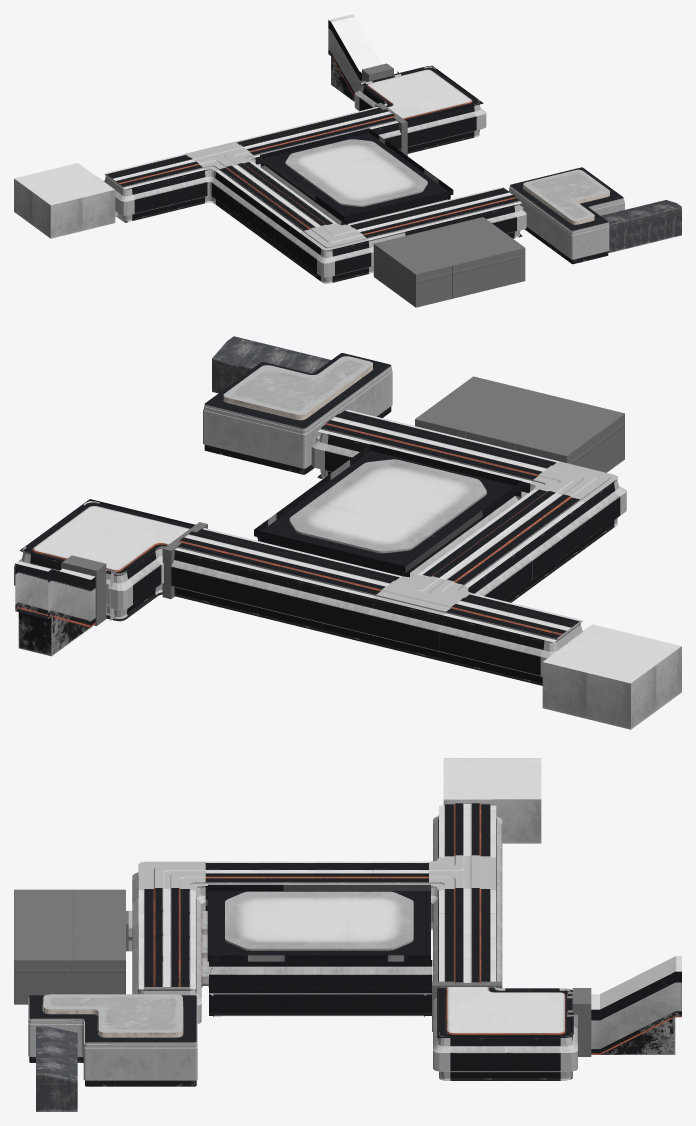
The model's file is TutoriRoom_FFF.fbx.
3 renders of one model, top to bottom at view 1: azimuth 30°, elevation 25°; view 2: azimuth 150°, elevation 25°; view 3: azimuth 270°, elevation 25°, orthographic. The views are drawn at different scales.
Visible parts, largest first — view 1: Tutori_HallWay_v1_Ceiling, Tutori_MeetingRoom_Ceiling, Tutori_HallWay_v1, Tutori_laboratory, Tutori_laboratory_Ceiling, Tutori_Father's Office_Ceiling, Tutori_Robby_Ceiling, Tutori_armory, Tutori_Father's Office, Tutori_Robby, Tutori_Stairway, Tutori_armory_Ceiling (+5 smaller); view 2: Tutori_HallWay_v1_Ceiling, Tutori_HallWay_v1, Tutori_MeetingRoom_Ceiling, Tutori_laboratory_Ceiling, Tutori_Father's Office_Ceiling, Tutori_Father's Office, Tutori_Robby_Ceiling, Tutori_armory, Tutori_Stairway, Tutori_armory_Ceiling, Tutori_Robby, Tutori_laboratory (+7 smaller); view 3: Tutori_HallWay_v1_Ceiling, Tutori_MeetingRoom_Ceiling, Tutori_MeetingRoom, Tutori_laboratory_Ceiling, Tutori_Stairway, Tutori_Robby, Tutori_Father's Office_Ceiling, Tutori_Robby_Ceiling, Tutori_Father's Office, Tutori_laboratory, Tutori_armory_Ceiling, Tutori_HallWay_v1 (+5 smaller).
Boxes of the visible parts, bbox=[...] form: Tutori_HallWay_v1_Ceiling: bbox=[111, 107, 514, 250]; Tutori_MeetingRoom_Ceiling: bbox=[260, 128, 453, 221]; Tutori_HallWay_v1: bbox=[132, 123, 517, 283]; Tutori_laboratory: bbox=[373, 244, 525, 307]; Tutori_laboratory_Ceiling: bbox=[374, 217, 524, 274]; Tutori_Father's Office_Ceiling: bbox=[510, 167, 623, 230]; Tutori_Robby_Ceiling: bbox=[359, 65, 483, 121]; Tutori_armory: bbox=[14, 176, 115, 238]; Tutori_Father's Office: bbox=[509, 185, 624, 264]; Tutori_Robby: bbox=[354, 66, 486, 153]; Tutori_Stairway: bbox=[328, 14, 382, 101]; Tutori_armory_Ceiling: bbox=[14, 163, 114, 205]; Tutori_HallWay_v1_Ceiling: bbox=[175, 412, 617, 639]; Tutori_HallWay_v1: bbox=[171, 434, 626, 685]; Tutori_MeetingRoom_Ceiling: bbox=[254, 444, 522, 572]; Tutori_laboratory_Ceiling: bbox=[415, 376, 624, 455]; Tutori_Father's Office_Ceiling: bbox=[205, 353, 390, 428]; Tutori_Father's Office: bbox=[203, 365, 392, 474]; Tutori_Robby_Ceiling: bbox=[20, 499, 195, 575]; Tutori_armory: bbox=[542, 624, 681, 729]; Tutori_Stairway: bbox=[15, 561, 95, 656]; Tutori_armory_Ceiling: bbox=[543, 624, 681, 683]; Tutori_Robby: bbox=[14, 501, 194, 621]; Tutori_laboratory: bbox=[415, 413, 624, 472]; Tutori_HallWay_v1_Ceiling: bbox=[138, 808, 496, 984]; Tutori_MeetingRoom_Ceiling: bbox=[207, 884, 430, 961]; Tutori_MeetingRoom: bbox=[205, 891, 432, 1017]; Tutori_laboratory_Ceiling: bbox=[14, 889, 125, 960]; Tutori_Stairway: bbox=[591, 956, 681, 1054]; Tutori_Robby: bbox=[433, 986, 577, 1080]; Tutori_Father's Office_Ceiling: bbox=[29, 994, 196, 1042]; Tutori_Robby_Ceiling: bbox=[437, 987, 573, 1037]; Tutori_Father's Office: bbox=[28, 998, 197, 1086]; Tutori_laboratory: bbox=[14, 890, 128, 1004]; Tutori_armory_Ceiling: bbox=[443, 758, 541, 799]; Tutori_HallWay_v1: bbox=[128, 818, 502, 997].
Size of the model in its own units: 5238 by 772 by 4788.
